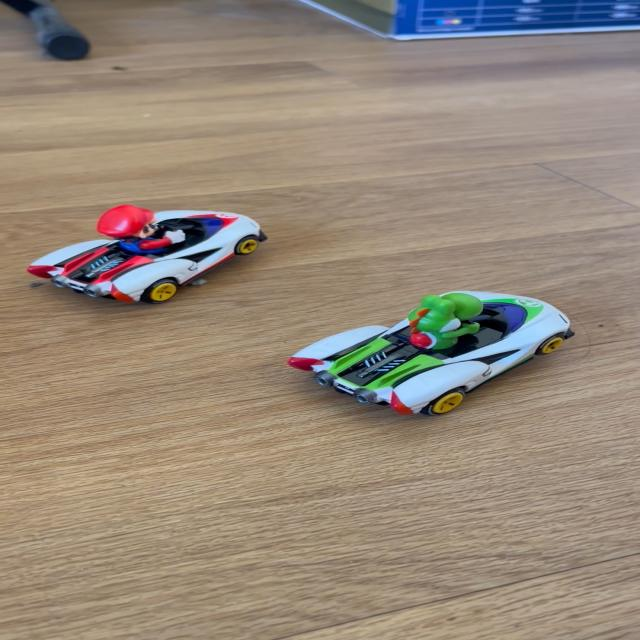mario: (16, 198, 280, 310)
yoshi: (275, 281, 584, 425)
